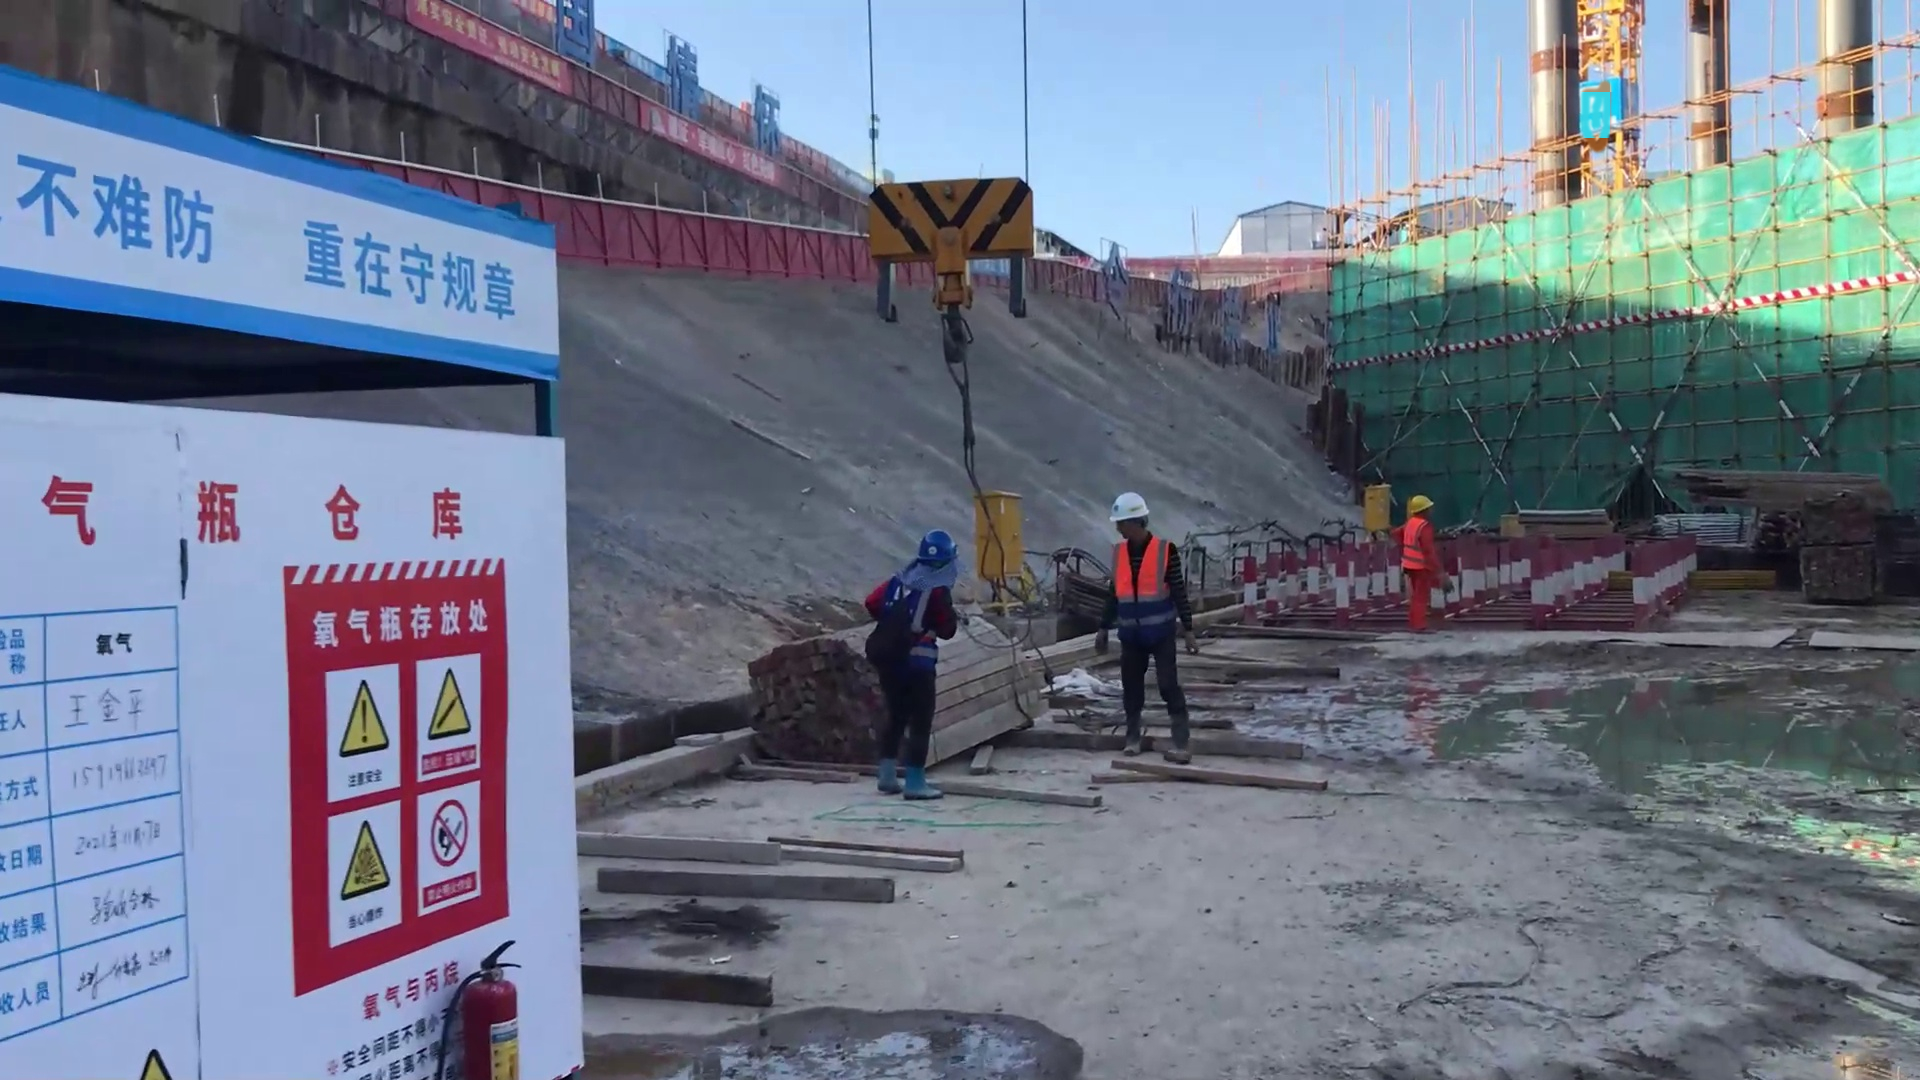ebox: (963, 482, 1056, 593)
fence: (554, 186, 855, 281)
helmet: (1091, 479, 1153, 545), (909, 517, 975, 552), (1409, 482, 1435, 509)
hook: (859, 164, 1038, 313)
person: (1092, 494, 1202, 771), (857, 522, 955, 816), (1383, 492, 1455, 635)
slogan: (15, 123, 559, 383), (266, 572, 558, 959)
vest: (874, 564, 947, 672), (1105, 540, 1171, 630), (1396, 514, 1446, 590)
wood: (736, 622, 869, 772), (1674, 460, 1867, 517)
